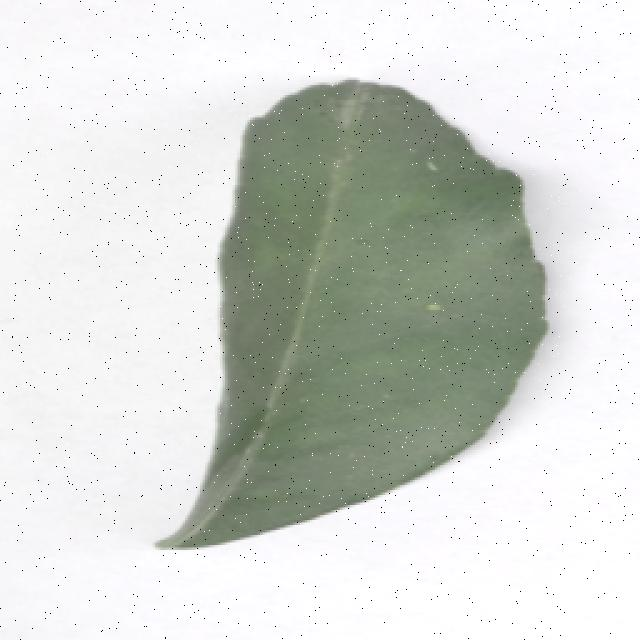healthy: (143, 77, 550, 560)
